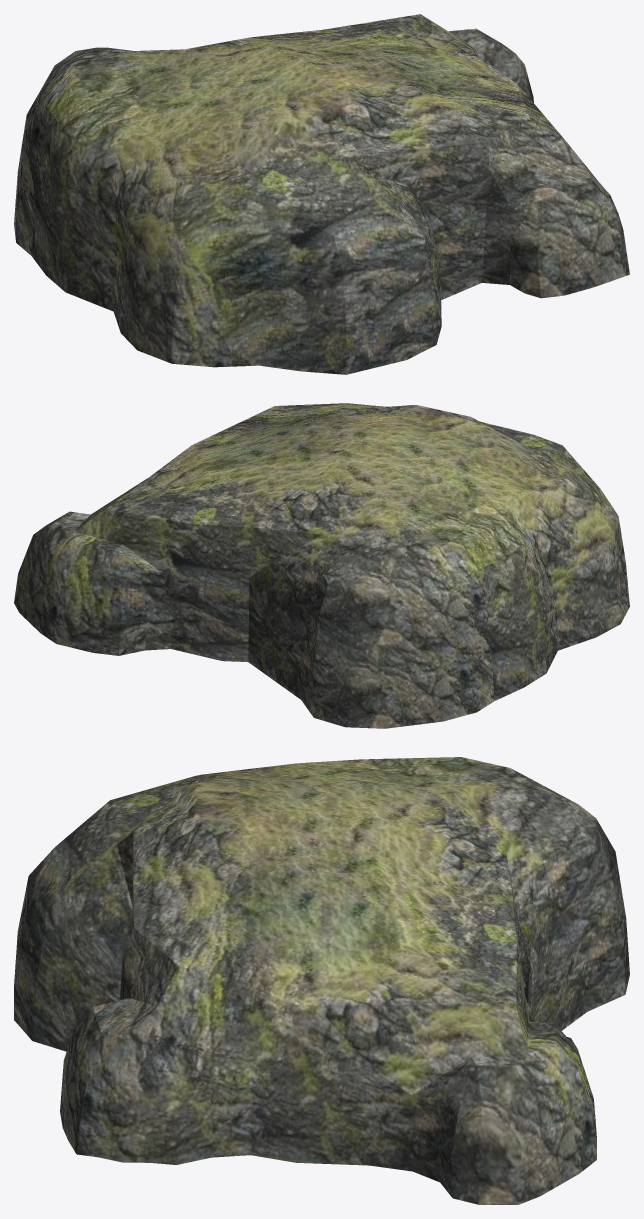
File: stijena_1.glb
The picture shows the model from 3 angles, top to bottom: view 1: azimuth 30°, elevation 25°; view 2: azimuth 150°, elevation 25°; view 3: azimuth 270°, elevation 25°; orthographic projection. The views are drawn at different scales.
Parts seen in each view (by area): view 1: Rock_1_1_Rocks:aiStandardSurface4_0; view 2: Rock_1_1_Rocks:aiStandardSurface4_0; view 3: Rock_1_1_Rocks:aiStandardSurface4_0.
Boxes of the visible parts, bbox=[...] form: Rock_1_1_Rocks:aiStandardSurface4_0: bbox=[14, 14, 629, 374]; Rock_1_1_Rocks:aiStandardSurface4_0: bbox=[14, 403, 629, 728]; Rock_1_1_Rocks:aiStandardSurface4_0: bbox=[14, 757, 629, 1204].
Bounding box in the file's own units: 104 × 36.89 × 92.42.
Materials: 1 (1 with a texture image).
